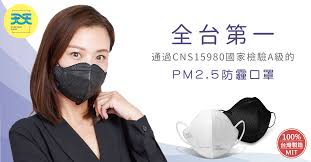Mask: (52, 25, 109, 105)
